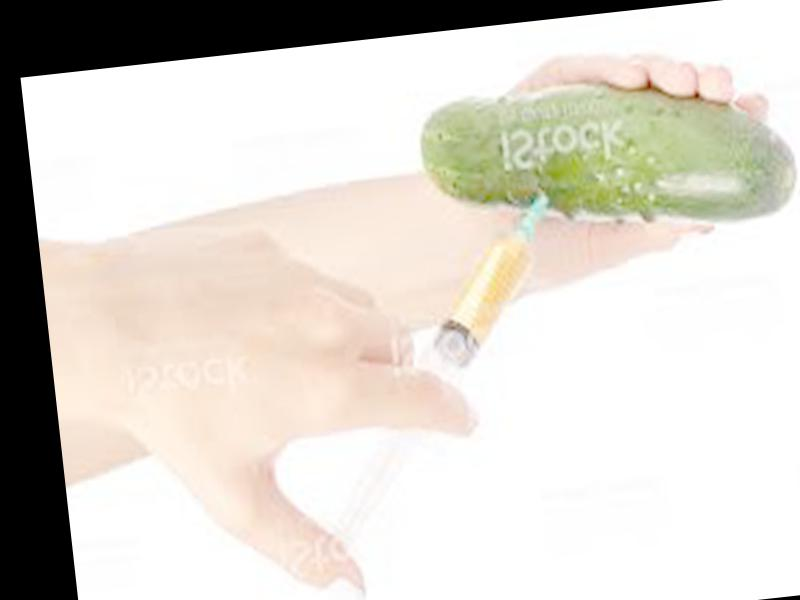Cucumber: (417, 70, 800, 253)
